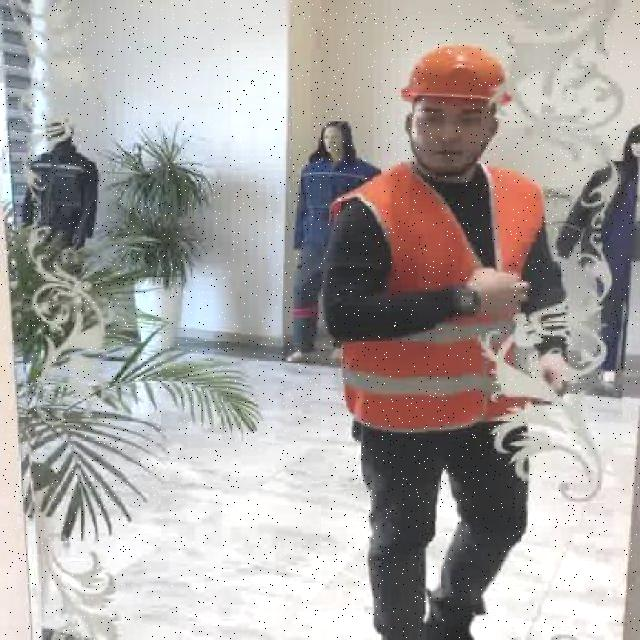Helmet: (396, 46, 515, 106)
Mask: (327, 160, 547, 434), (556, 150, 638, 384), (290, 159, 384, 355), (13, 146, 104, 256)
